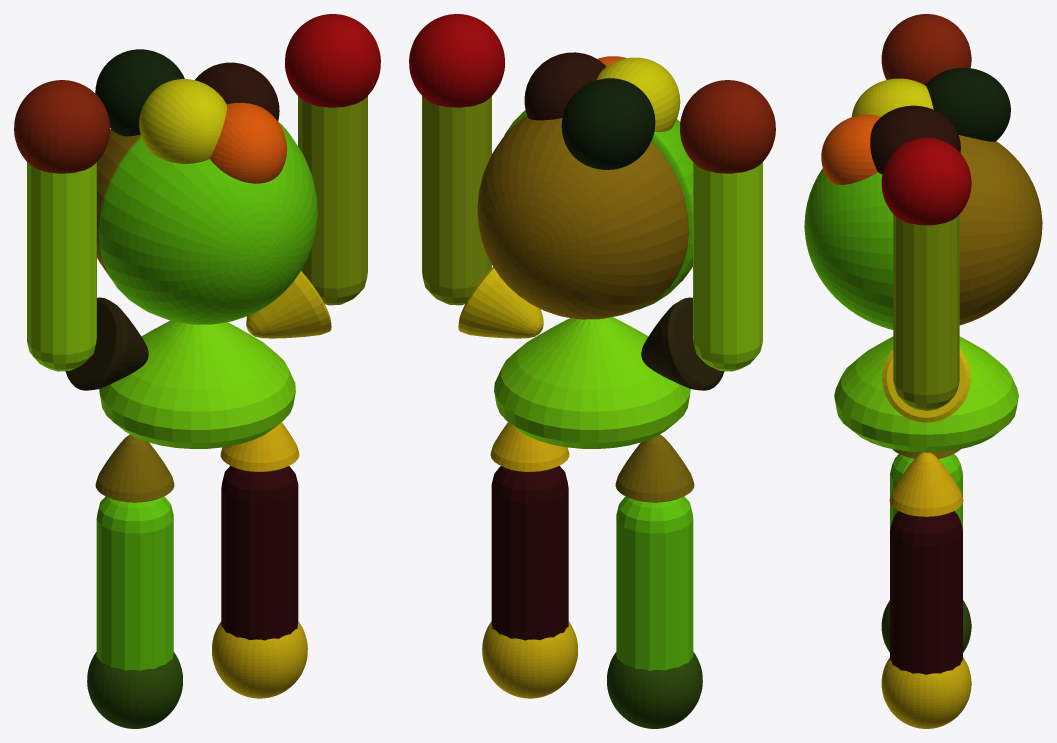
File: Check.fbx
3 views of the same model, side by side, from view 1: azimuth 30°, elevation 25°; view 2: azimuth 150°, elevation 25°; view 3: azimuth 270°, elevation 25° (orthographic). The views are drawn at different scales.
Visible parts, largest first — view 1: CharTest; view 2: CharTest; view 3: CharTest.
Boxes of the visible parts, x1,y1,x2,y2 form: CharTest: (14, 14, 380, 728); CharTest: (409, 14, 775, 728); CharTest: (804, 14, 1042, 728).
Bounding box in the file's own units: 169 × 301 × 105.
